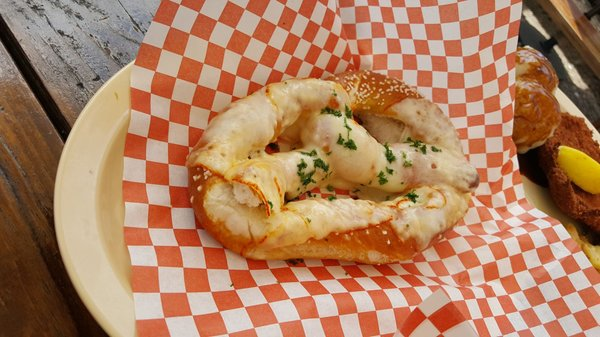soup: (187, 70, 478, 266)
